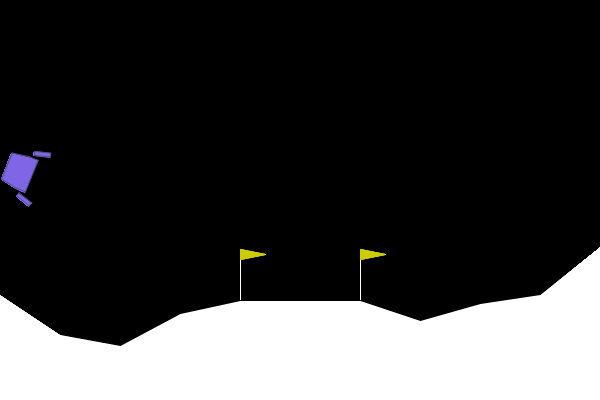lander: (0, 138, 53, 208)
